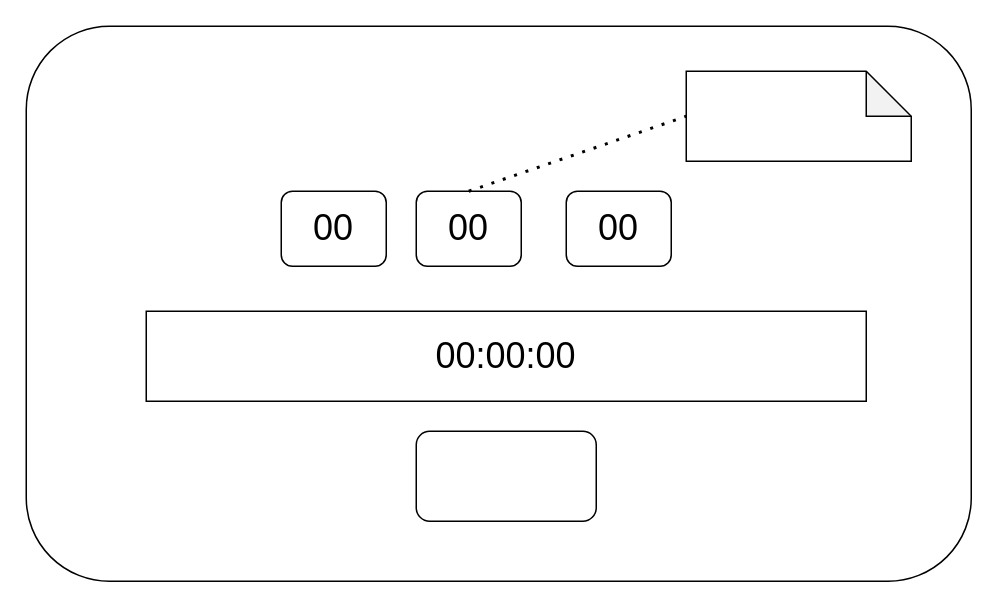
Some shapes in this 998 by 608 pixel diagram are drawn without their labels. Each missing label, with the centre of its shape:
"スタート" goes at point (505, 475).
"数字を設定出来る" goes at point (798, 115).
